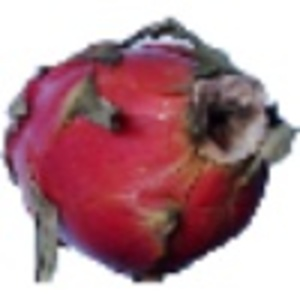pitaia: (1, 17, 300, 287)
